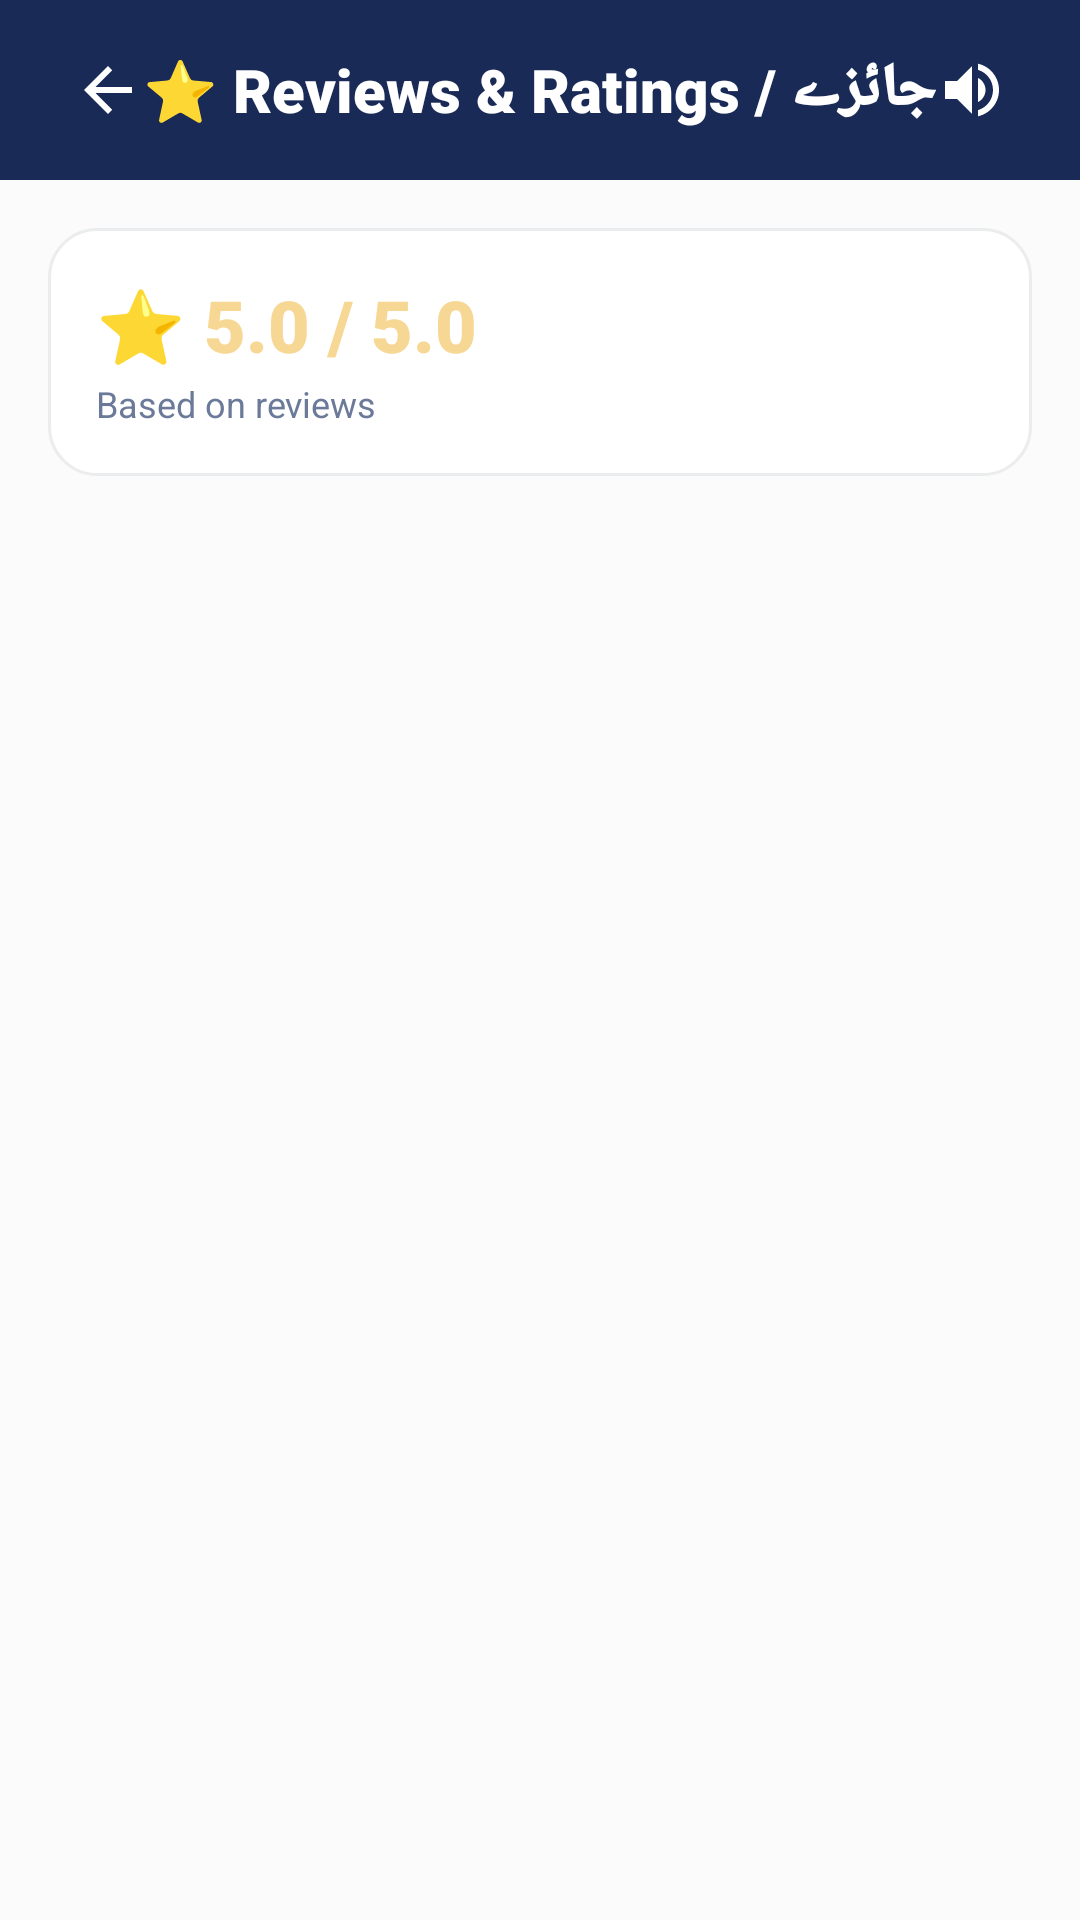

Screen size 1080*1920. Icon name, then its box in pixels as (x1, y1, x2, y2):
Back: (84, 66, 132, 114)
